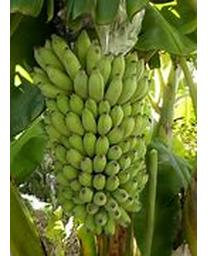banana: (30, 28, 153, 241)
